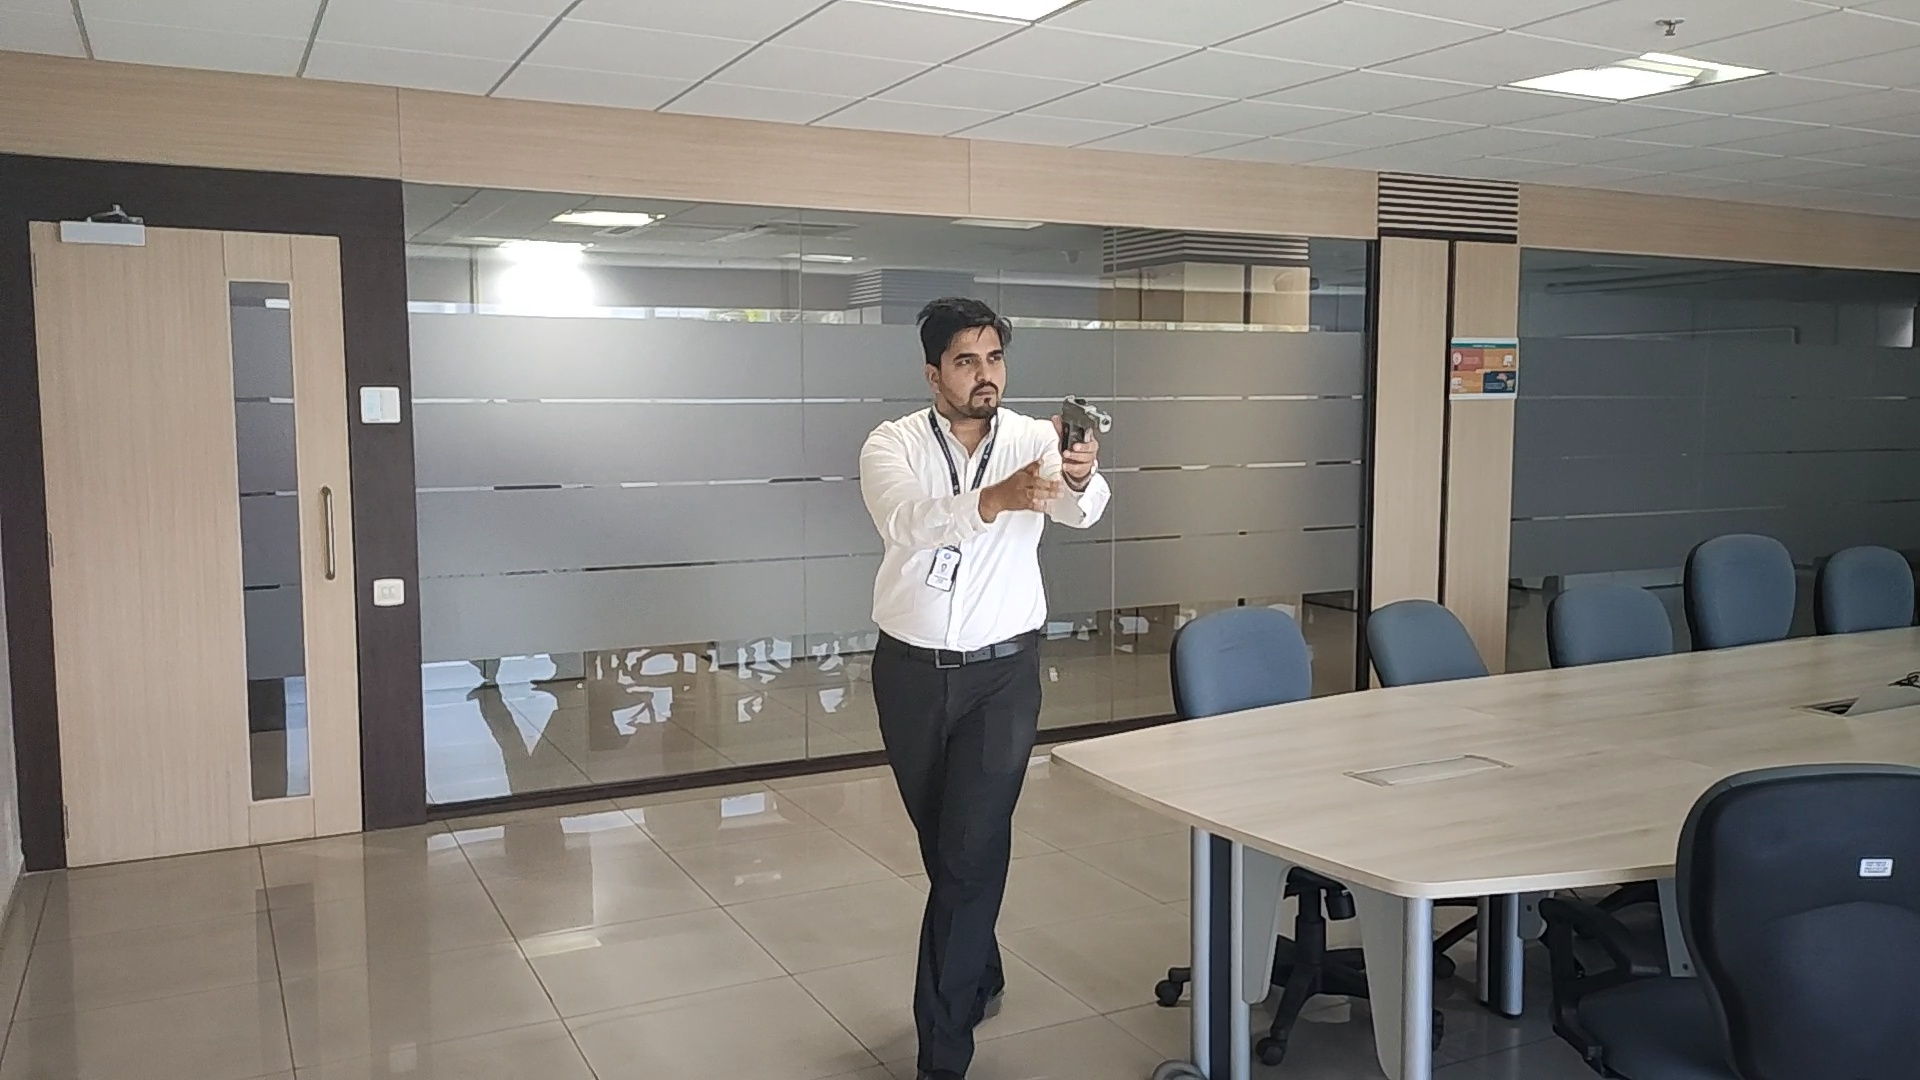gun: (1059, 394, 1114, 458)
